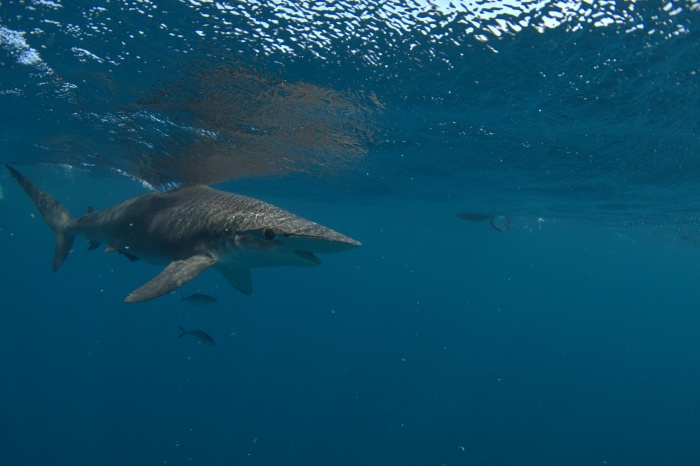Hammer: (1, 154, 365, 327)
